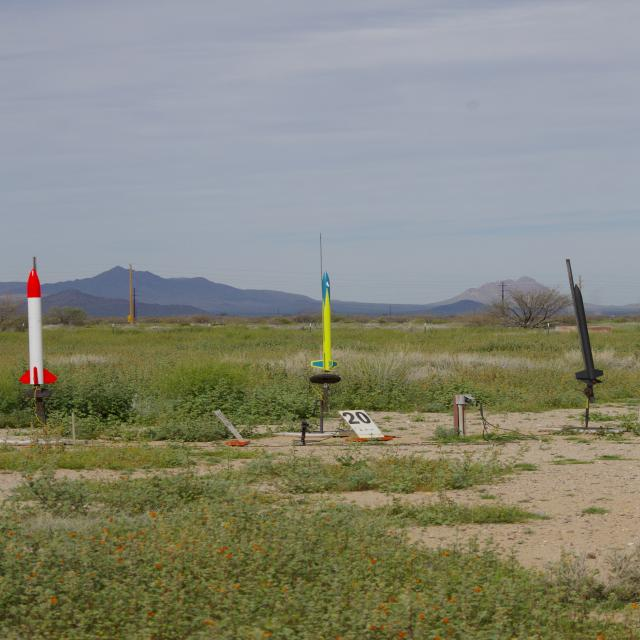Rocket: (17, 267, 57, 385), (574, 283, 604, 381), (311, 271, 339, 371)
